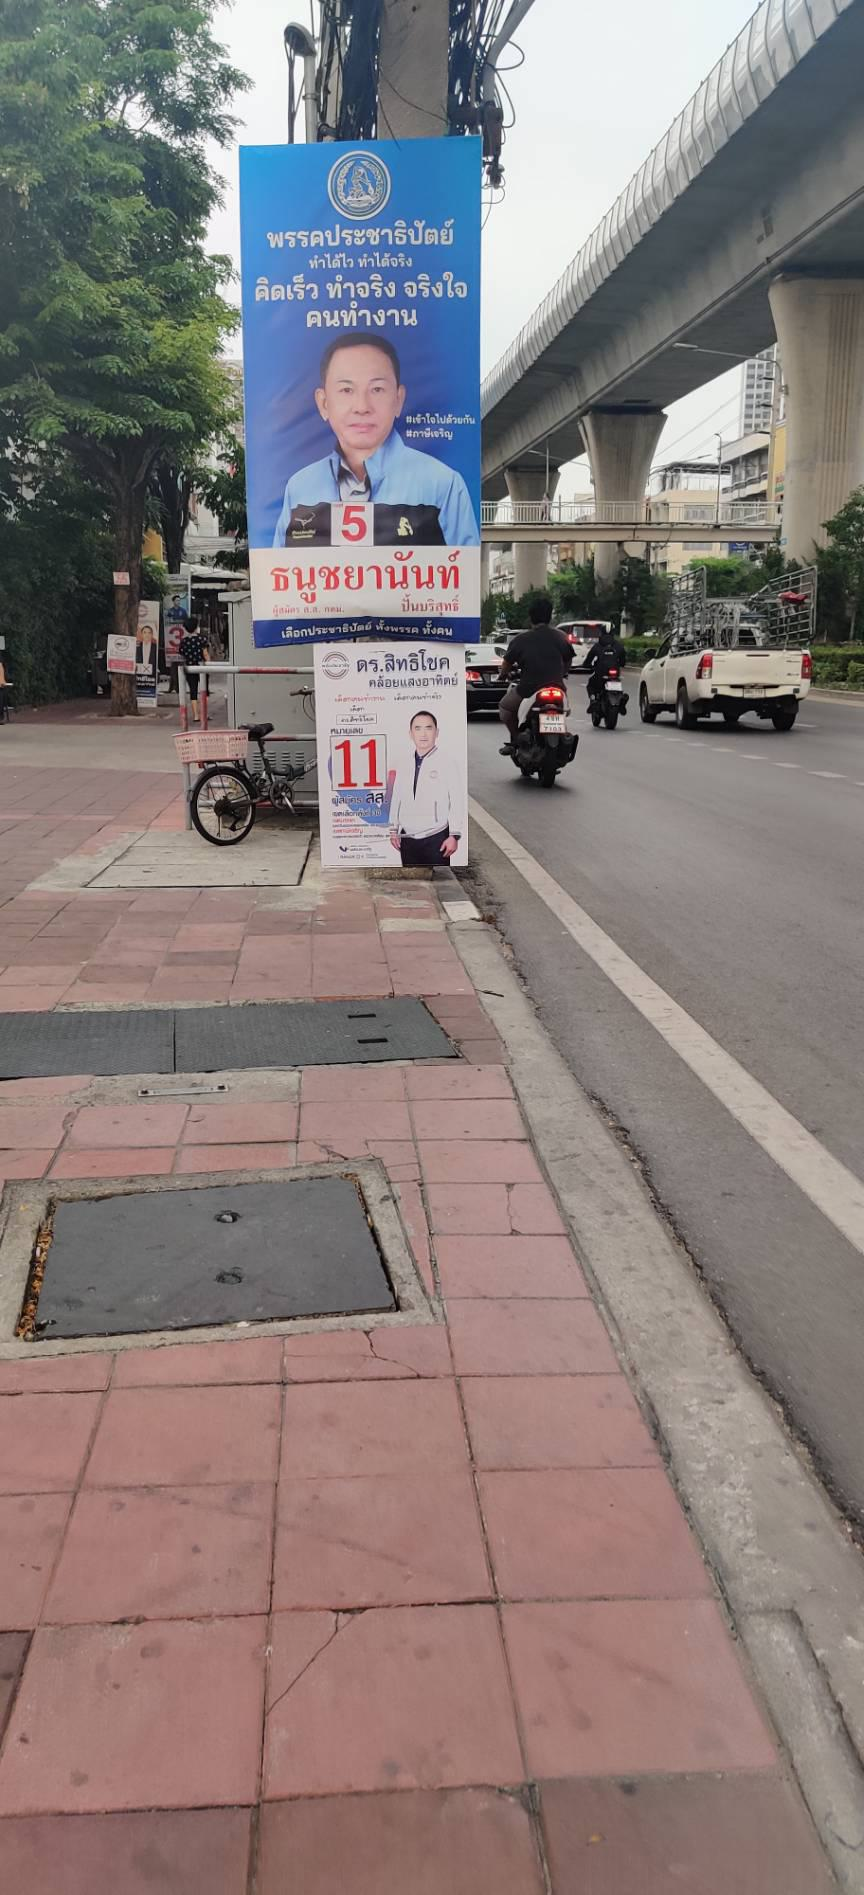Banner: (230, 141, 495, 639), (312, 624, 471, 874)
